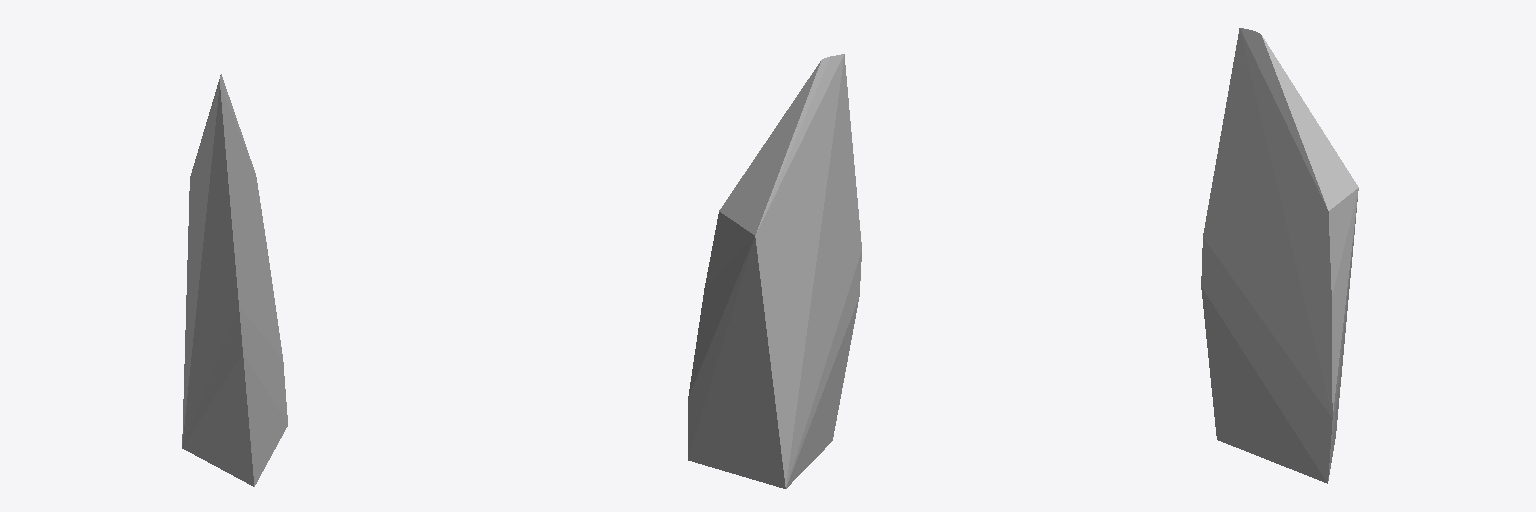
File: trash_bin_collision_8.obj
The picture shows the model from 3 angles: view 1: azimuth 30°, elevation 25°; view 2: azimuth 150°, elevation 25°; view 3: azimuth 270°, elevation 25°; orthographic projection.
Size of the model in its own units: 0.0259 by 0.0888 by 0.0315.